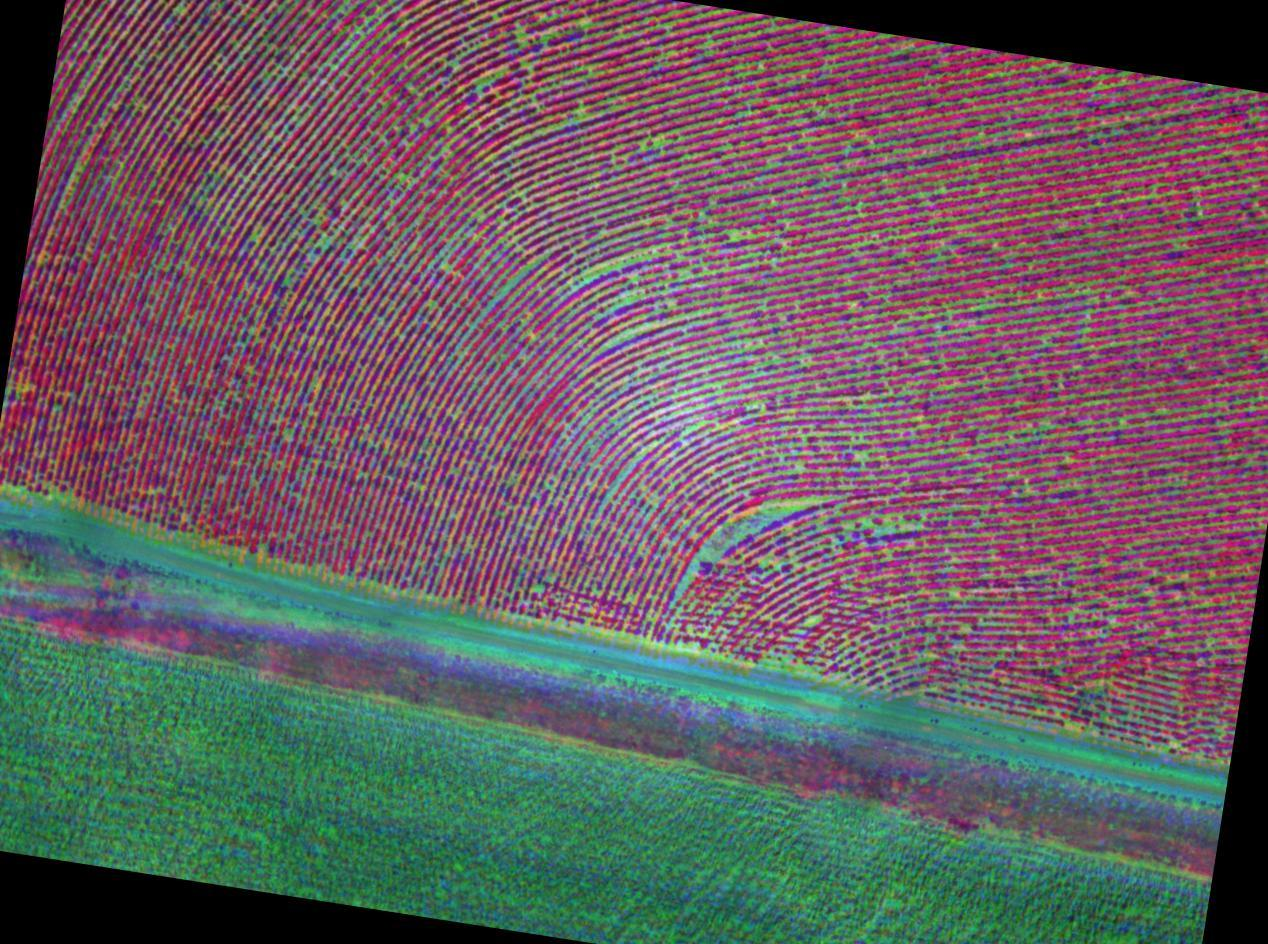dc: (668, 480, 813, 601), (471, 23, 627, 125), (198, 138, 327, 231), (538, 235, 653, 330), (221, 38, 335, 114)
